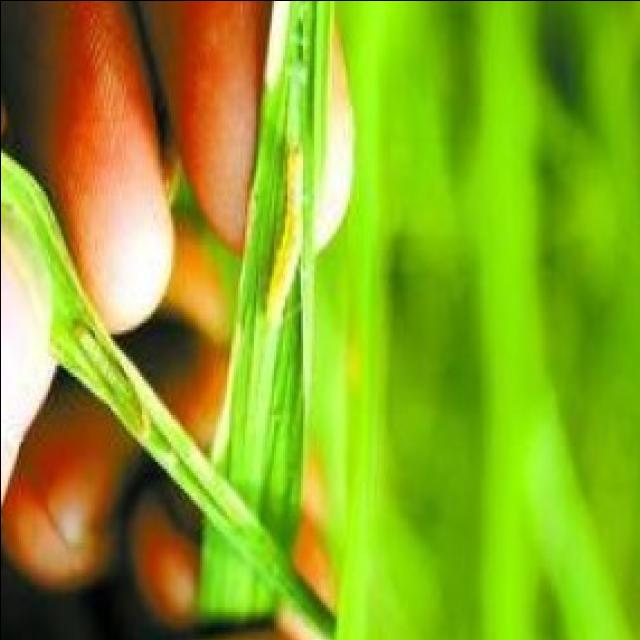rice leaf roller: (269, 116, 302, 324), (78, 329, 141, 421)
